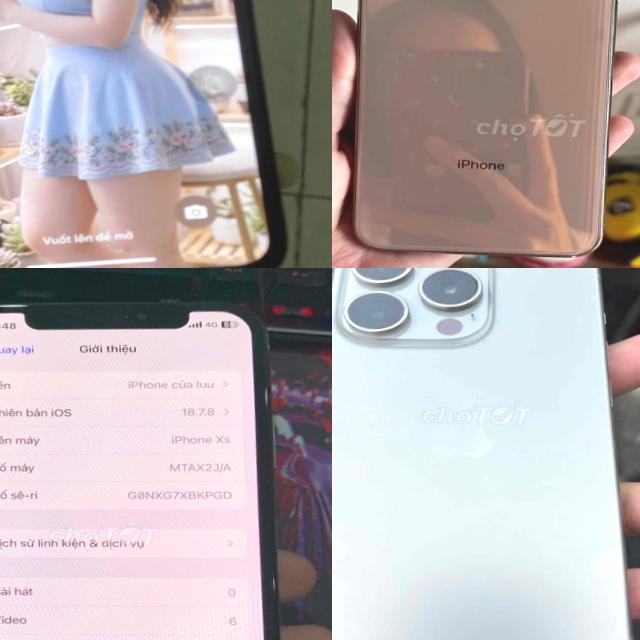gen_11: (0, 0, 313, 268)
gen_15: (332, 268, 640, 640)
gen_x_xs: (0, 285, 310, 640), (332, 0, 632, 268)
